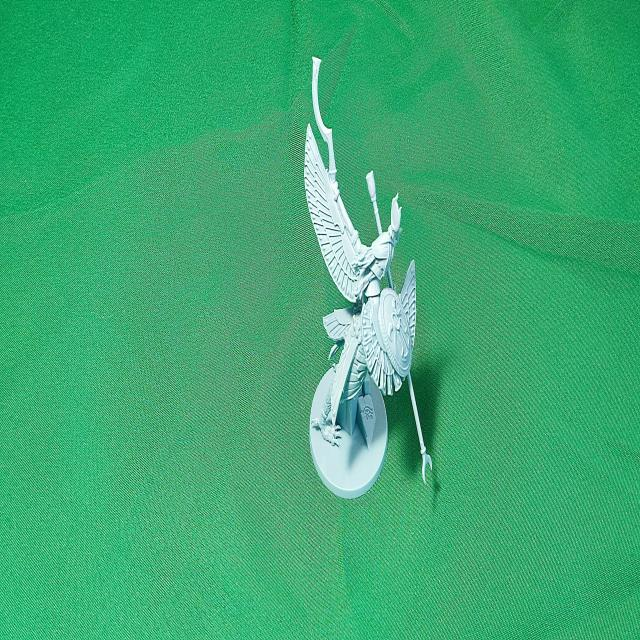isis: (292, 4, 449, 640)
